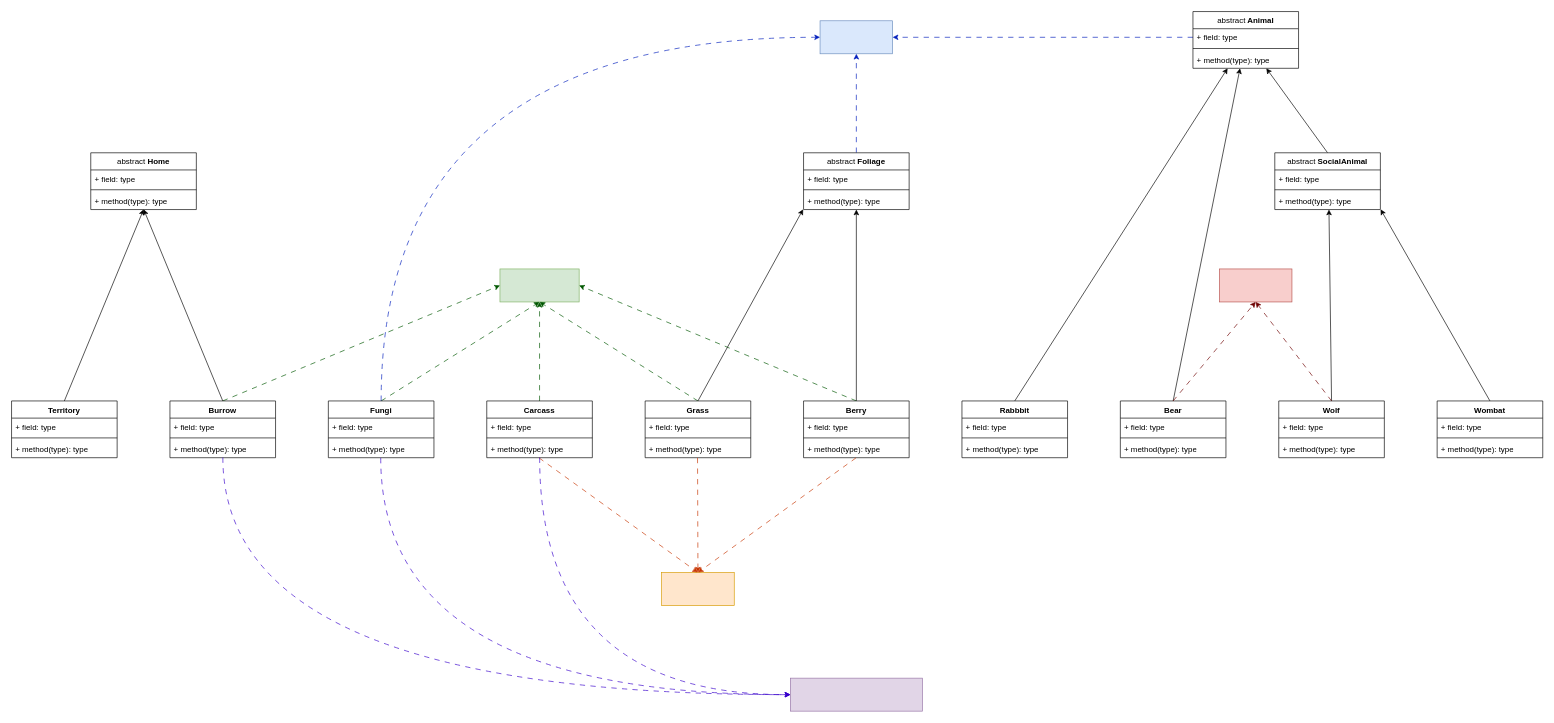
Image size: 1554x723. Some labels were removed from this diagram. Each missing label, with the centre of its shape:
"«interface» Actor" goes at [856,37].
"«interface» DynamicDisplayInformation" goes at [856,694].
"«interface» Eatable" goes at [697,589].
"«interface» NonBlocking" goes at [539,285].
"«interface» Predator" goes at [1255,285].
